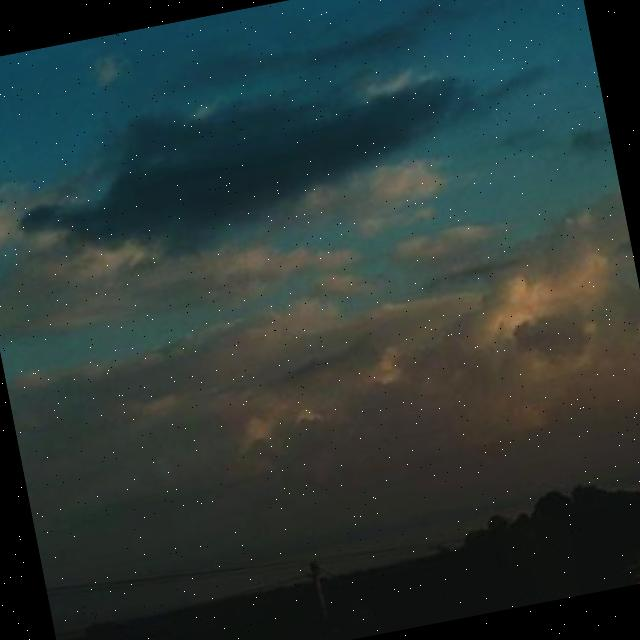Sc: (1, 1, 640, 526)
